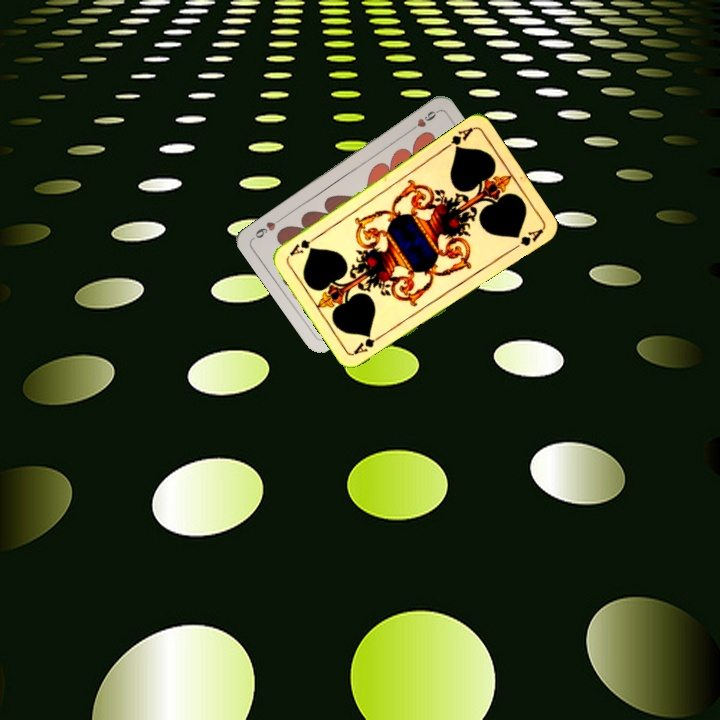GA: (440, 123, 476, 153), (350, 329, 387, 357)
H9: (405, 107, 440, 135)
